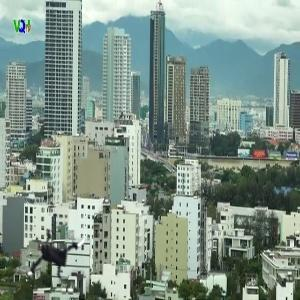drone: (13, 214, 94, 295)
